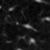node: (22, 22, 37, 33), (6, 4, 18, 11), (28, 37, 37, 46), (41, 15, 50, 23), (15, 21, 19, 26)
